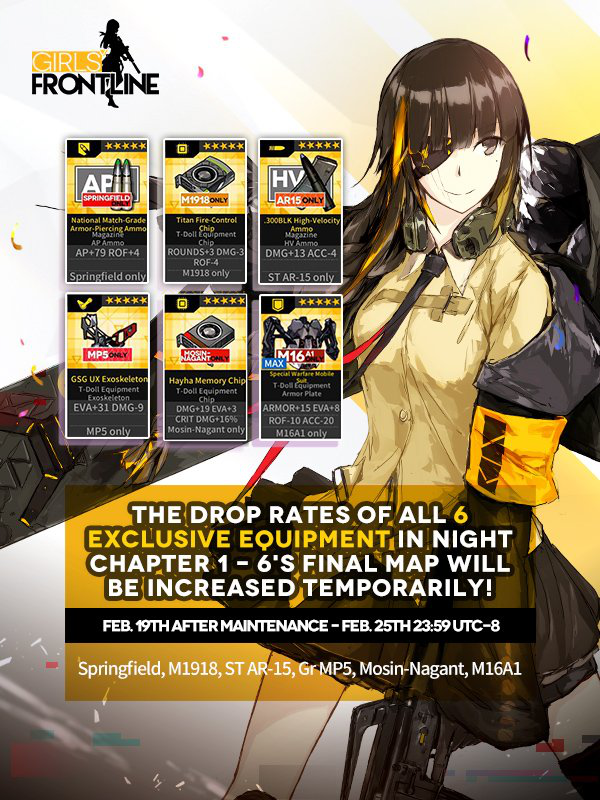latin: (81, 497, 517, 605), (75, 659, 523, 681), (101, 616, 503, 636), (262, 402, 340, 441), (166, 402, 245, 437), (261, 215, 341, 248), (68, 215, 146, 244), (70, 372, 148, 401), (268, 369, 335, 401), (167, 375, 245, 402), (176, 216, 239, 248), (166, 248, 245, 265), (264, 246, 340, 261), (73, 245, 142, 260), (67, 269, 147, 281), (70, 402, 144, 414), (267, 269, 333, 282), (84, 422, 131, 437), (181, 267, 230, 280)
